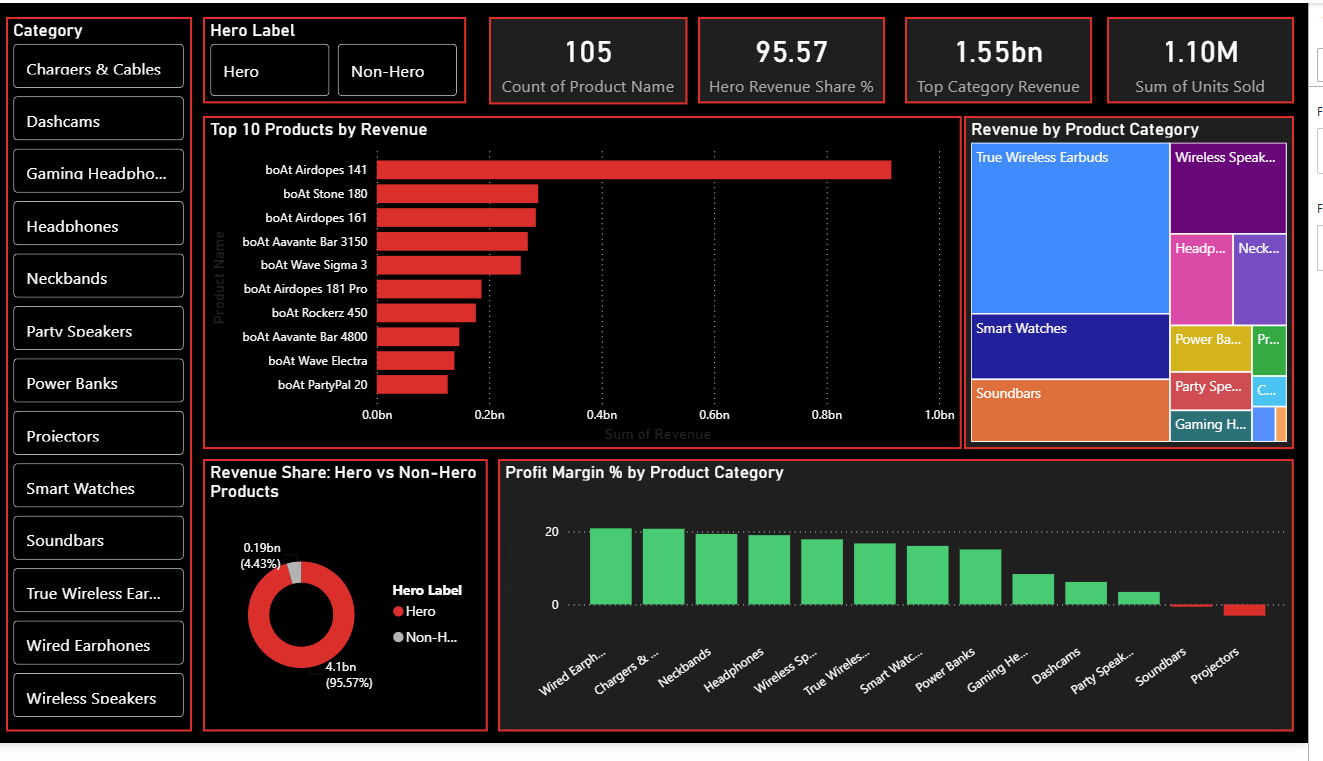

The page's visual inventory and layout, read from the dashboard file:
{"tool":"powerbi","page":{"name":"Product Performance","canvas":[1280,720],"ordinal":2},"visuals":[{"type":"card","fields":{"Values":["Count(ProductPerformance.Product Name)"]},"box":[483.4,13.6,192.6,84.6],"z":0,"group":"g1"},{"type":"card","fields":{"Values":["ProductPerformance.Hero Revenue Share %"]},"box":[686.6,13.6,181.7,84.3],"z":1000,"group":"g1"},{"type":"card","fields":{"Values":["ProductPerformance.Top Category Revenue"]},"box":[887.6,13.6,181.7,84.3],"z":2000,"group":"g1"},{"type":"card","fields":{"Values":["Sum(ProductPerformance.Units Sold)"]},"box":[1084.9,14,181.7,84.3],"z":3000,"group":"g1"},{"type":"clusteredBarChart","title":"Top 10 Products by Revenue","fields":{"Category":["ProductPerformance.Product Name"],"Y":["Sum(ProductPerformance.Revenue)"]},"box":[205.4,110,738,323.8],"z":4000,"group":"g1"},{"type":"treemap","title":"Revenue by Product Category","fields":{"Group":["ProductPerformance.Category"],"Values":["Sum(ProductPerformance.Revenue)"]},"box":[945.4,110,320.8,323.8],"z":5000,"group":"g1"},{"type":"donutChart","title":"Revenue Share: Hero vs Non-Hero Products","fields":{"Y":["Sum(ProductPerformance.Revenue)"],"Category":["ProductPerformance.Hero Label"]},"box":[205.4,444,277.1,264.9],"z":6000,"group":"g1"},{"type":"clusteredColumnChart","title":"Profit Margin % by Product Category","fields":{"Category":["CategoryMargin.Category"],"Y":["Sum(CategoryMargin.Profit_Margin_Pct)"]},"box":[491.7,444,774.5,264.9],"z":7000,"group":"g1"},{"type":"advancedSlicerVisual","fields":{"Values":["ProductPerformance.Category"]},"box":[13.6,13.6,180.7,695.3],"z":8000,"group":"g1"},{"type":"advancedSlicerVisual","fields":{"Values":["ProductPerformance.Hero Label"]},"box":[205.4,13.6,255.8,84.3],"z":9000,"group":"g1"},{"type":"group","id":"g1","title":"Group 1","box":[13.6,13.6,1253,695.3],"z":9001}]}

Visuals, with their boxes in screenshot pixels (x1, y1, x2, y2), scaled from the page's 1280x720 canvas onto the 1323x761 screenshot:
card - Count(ProductPerformance.Product Name): {"x1": 500, "y1": 14, "x2": 699, "y2": 104}
card - ProductPerformance.Hero Revenue Share %: {"x1": 710, "y1": 14, "x2": 897, "y2": 103}
card - ProductPerformance.Top Category Revenue: {"x1": 917, "y1": 14, "x2": 1105, "y2": 103}
card - Sum(ProductPerformance.Units Sold): {"x1": 1121, "y1": 15, "x2": 1309, "y2": 104}
"Top 10 Products by Revenue" clusteredBarChart: {"x1": 212, "y1": 116, "x2": 975, "y2": 459}
"Revenue by Product Category" treemap: {"x1": 977, "y1": 116, "x2": 1309, "y2": 459}
"Revenue Share: Hero vs Non-Hero Products" donutChart: {"x1": 212, "y1": 469, "x2": 499, "y2": 749}
"Profit Margin % by Product Category" clusteredColumnChart: {"x1": 508, "y1": 469, "x2": 1309, "y2": 749}
advancedSlicerVisual - ProductPerformance.Category: {"x1": 14, "y1": 14, "x2": 201, "y2": 749}
advancedSlicerVisual - ProductPerformance.Hero Label: {"x1": 212, "y1": 14, "x2": 477, "y2": 103}
"Group 1" group: {"x1": 14, "y1": 14, "x2": 1309, "y2": 749}
